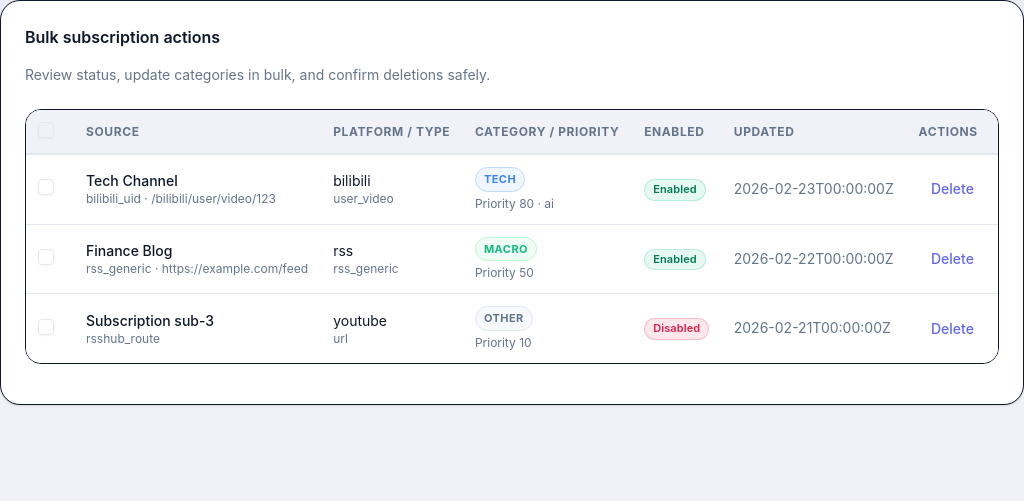
Test: SubscriptionBatchPanel › toggles single row selection on and off
Click the checkbox named "Select Tech Channel" at coordinates (46, 187), box [38,179,54,195]
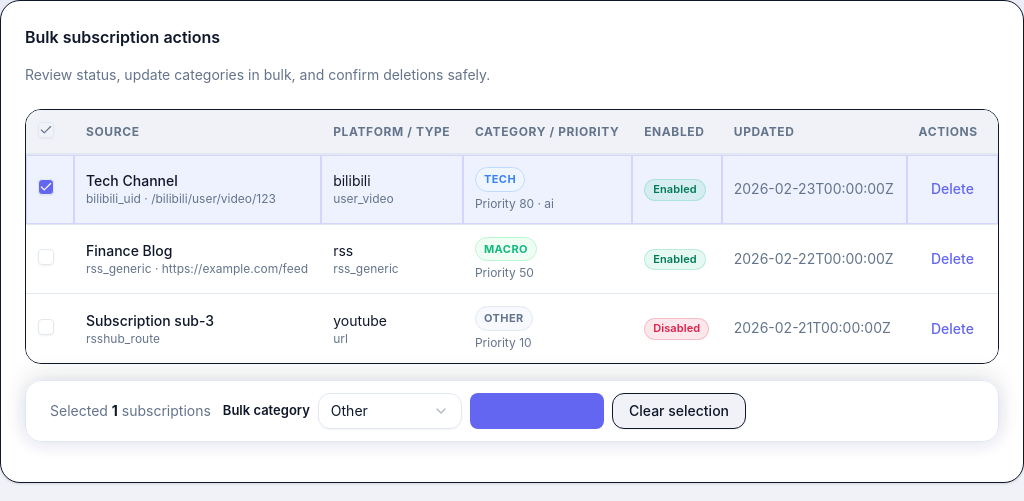
expect the text "Selected 1 subscriptions" is shown: met, box [50,401,211,421]
expect the text "1" is shown: met, box [112,402,118,419]
Click the checkbox named "Select Tech Channel" at coordinates (46, 187), box [38,179,54,195]
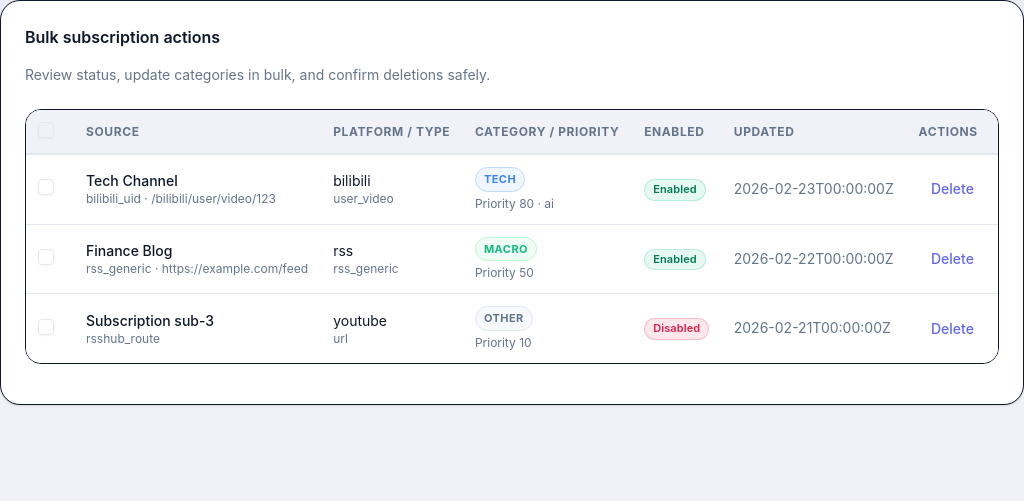
expect the text "Selected" is gone: met
